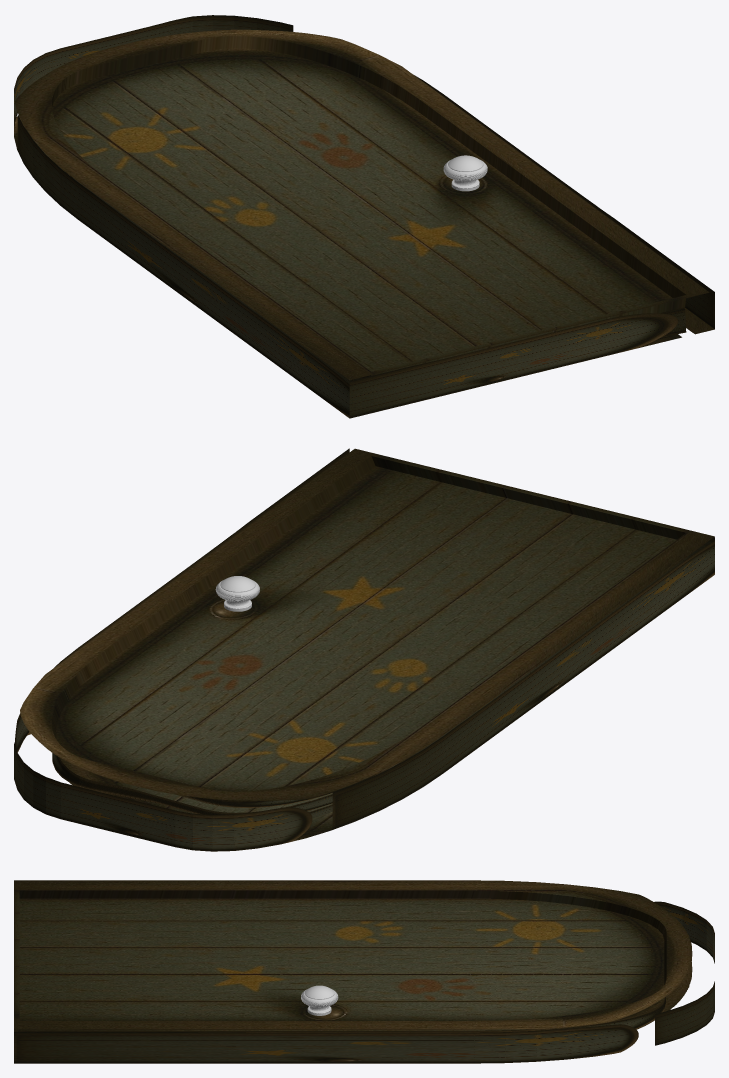
The model's file is Çocukluk Kapı.fbx.
The picture shows the model from 3 angles, top to bottom: view 1: azimuth 30°, elevation 25°; view 2: azimuth 150°, elevation 25°; view 3: azimuth 270°, elevation 25°; orthographic projection. The views are drawn at different scales.
Parts seen in each view (by area): view 1: Çocuk kapı.001, Çocuk kapı; view 2: Çocuk kapı.001, Çocuk kapı; view 3: Çocuk kapı.001, Çocuk kapı.
Boxes of the visible parts, x1,y1,x2,y2 form: Çocuk kapı.001: (52, 48, 686, 384); Çocuk kapı: (14, 15, 714, 418); Çocuk kapı.001: (52, 466, 688, 817); Çocuk kapı: (14, 448, 714, 851); Çocuk kapı.001: (17, 898, 666, 1032); Çocuk kapı: (14, 880, 714, 1063).
Bounding box in the file's own units: 200 × 29.43 × 393.
